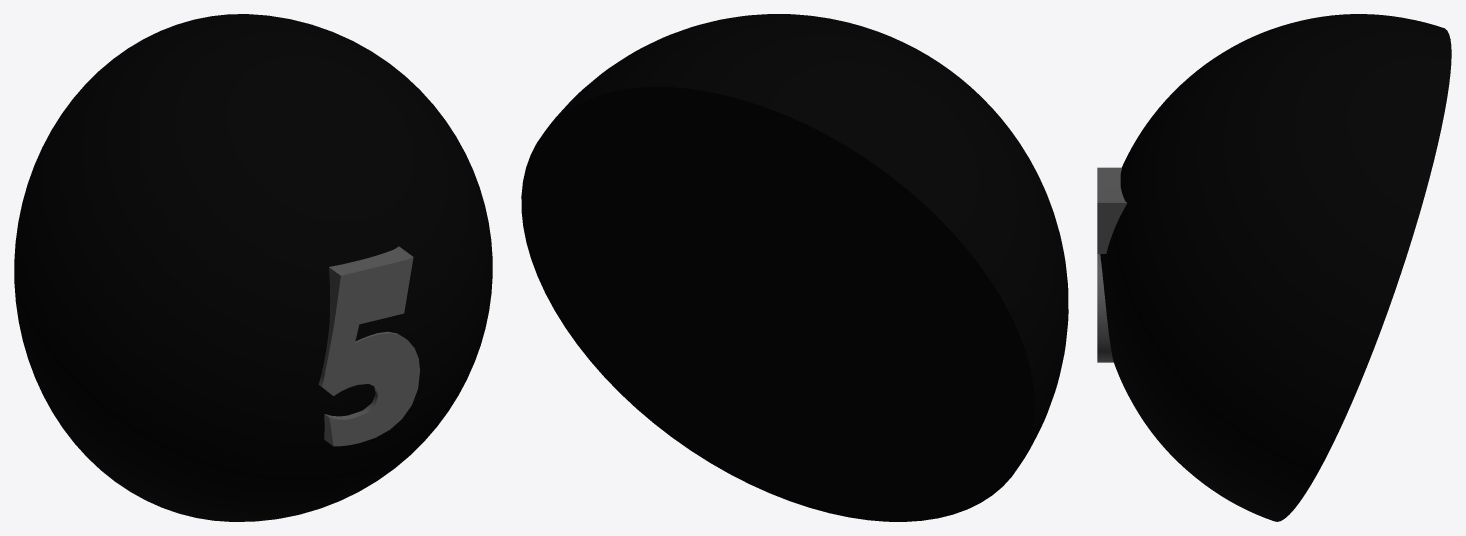
Rendered from button5.fbx.
The picture shows the model from 3 angles, left to right: view 1: azimuth 30°, elevation 25°; view 2: azimuth 150°, elevation 25°; view 3: azimuth 270°, elevation 25°; orthographic projection. The views are drawn at different scales.
Parts seen in each view (by area): view 1: root, node_id130; view 2: root; view 3: root, node_id130.
Boxes of the visible parts, left/top/right/bottom form: root: left=14, top=14, right=492, bottom=521; node_id130: left=318, top=246, right=419, bottom=446; root: left=521, top=14, right=1068, bottom=521; root: left=1100, top=14, right=1451, bottom=521; node_id130: left=1097, top=167, right=1127, bottom=362.
Bounding box in the file's own units: 0.2 × 0.1936 × 0.1358.
Materials: 2 (1 with a texture image).
